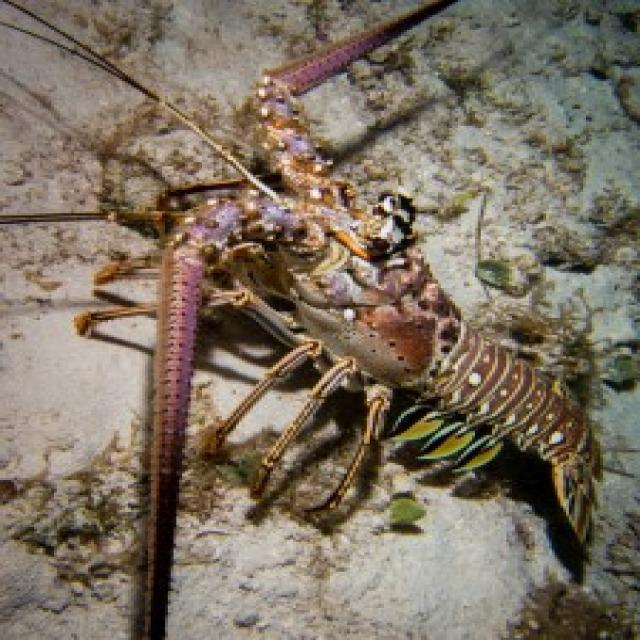lobsters: (0, 17, 640, 608)
